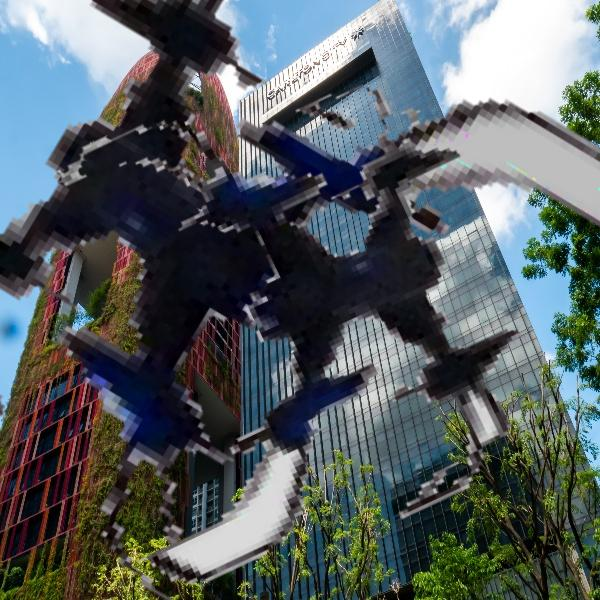drone: (24, 50, 547, 573)
